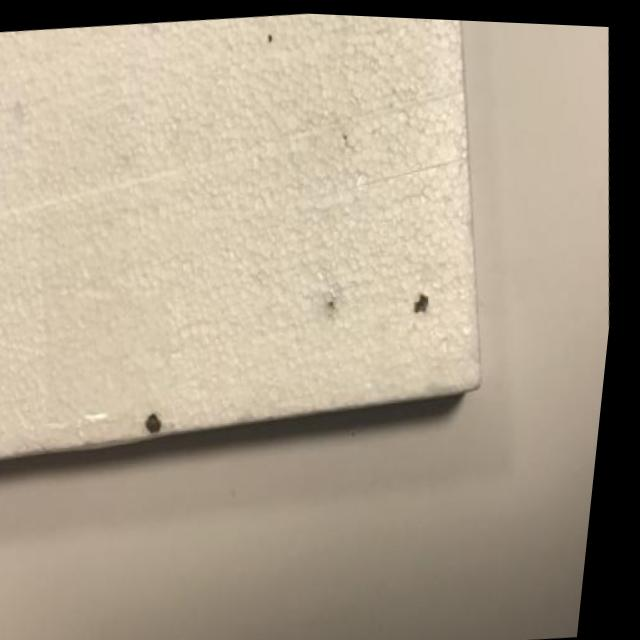trash: (0, 0, 595, 570)
